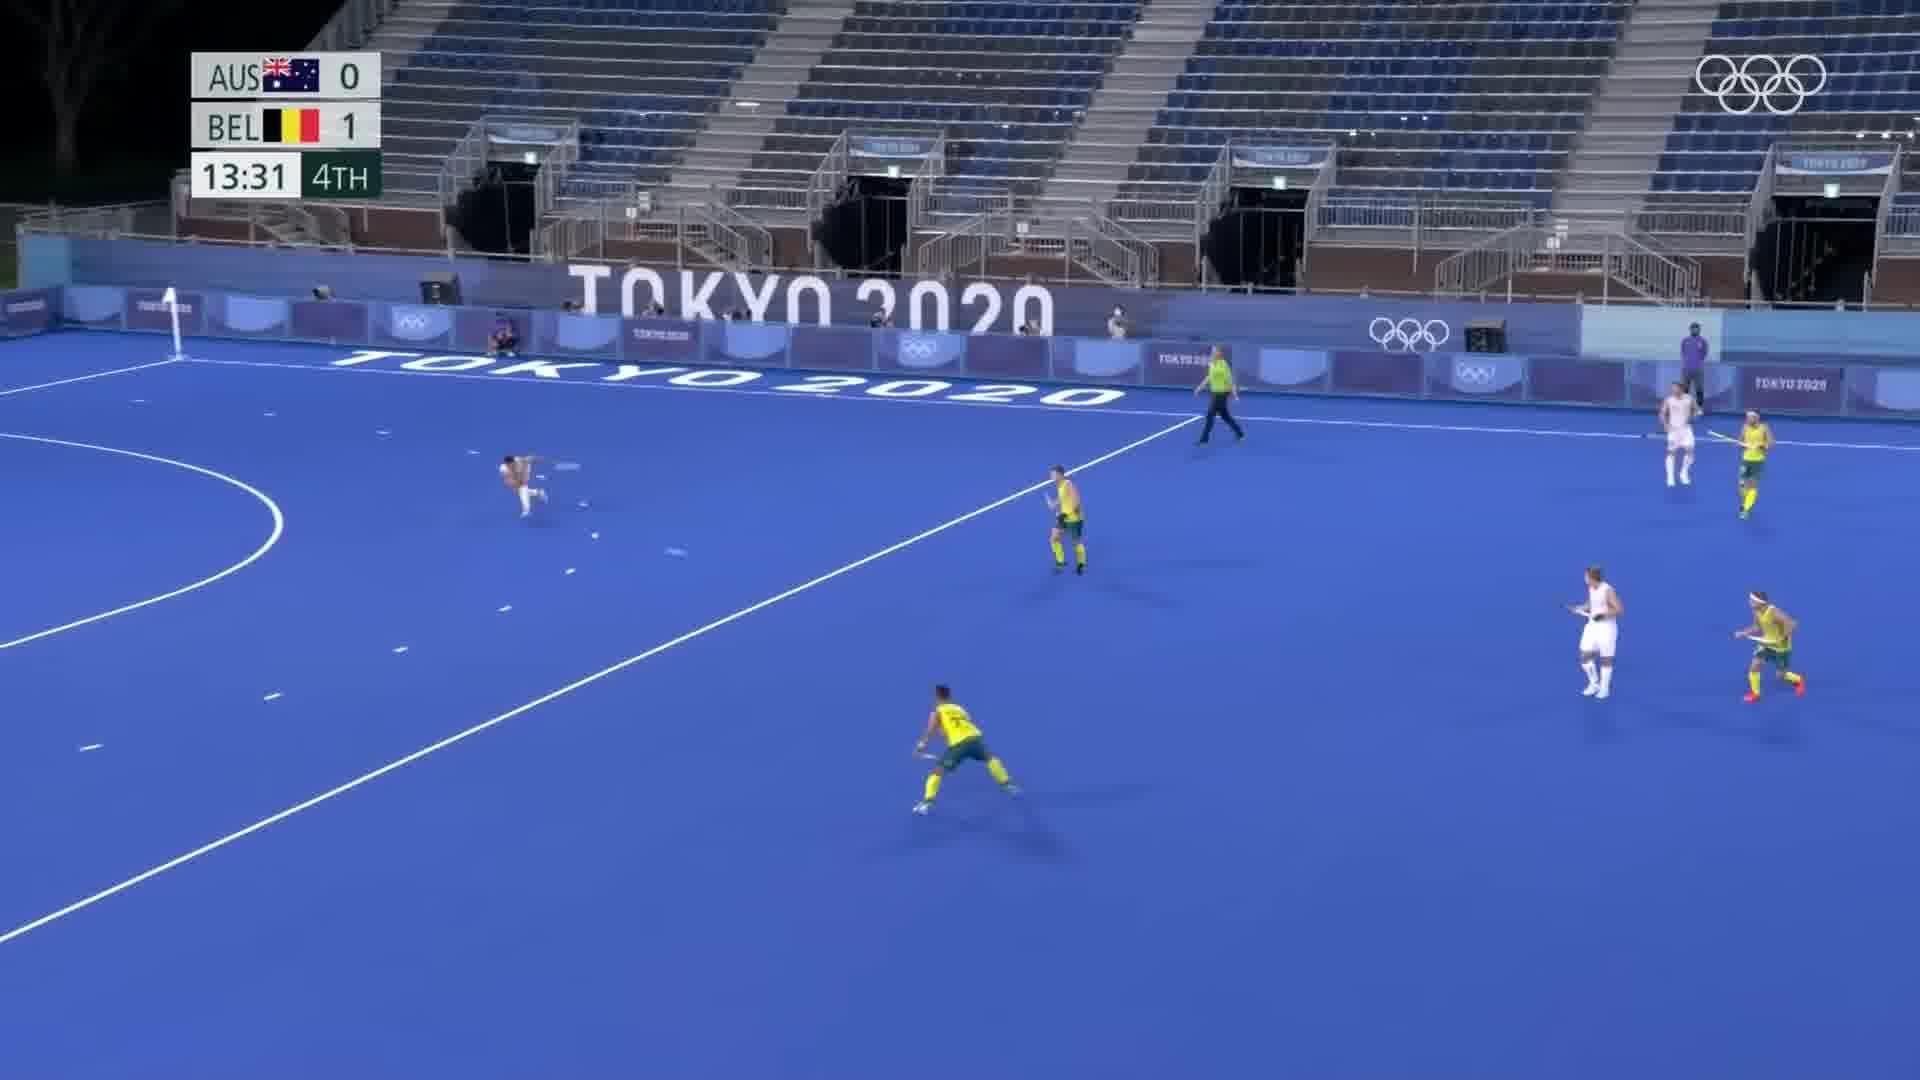ball: (663, 546, 687, 562)
